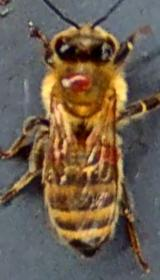varroa_mite: (54, 66, 100, 104), (91, 141, 122, 172)
